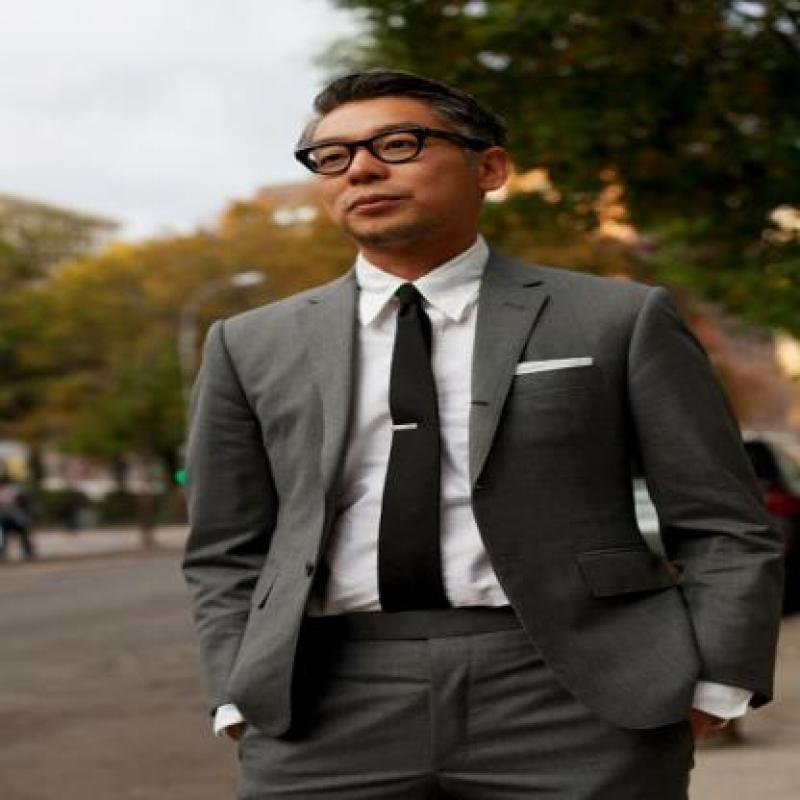jacket: (179, 242, 788, 738)
long sleeve shirt: (314, 233, 482, 610)
trousers: (238, 615, 694, 800)
